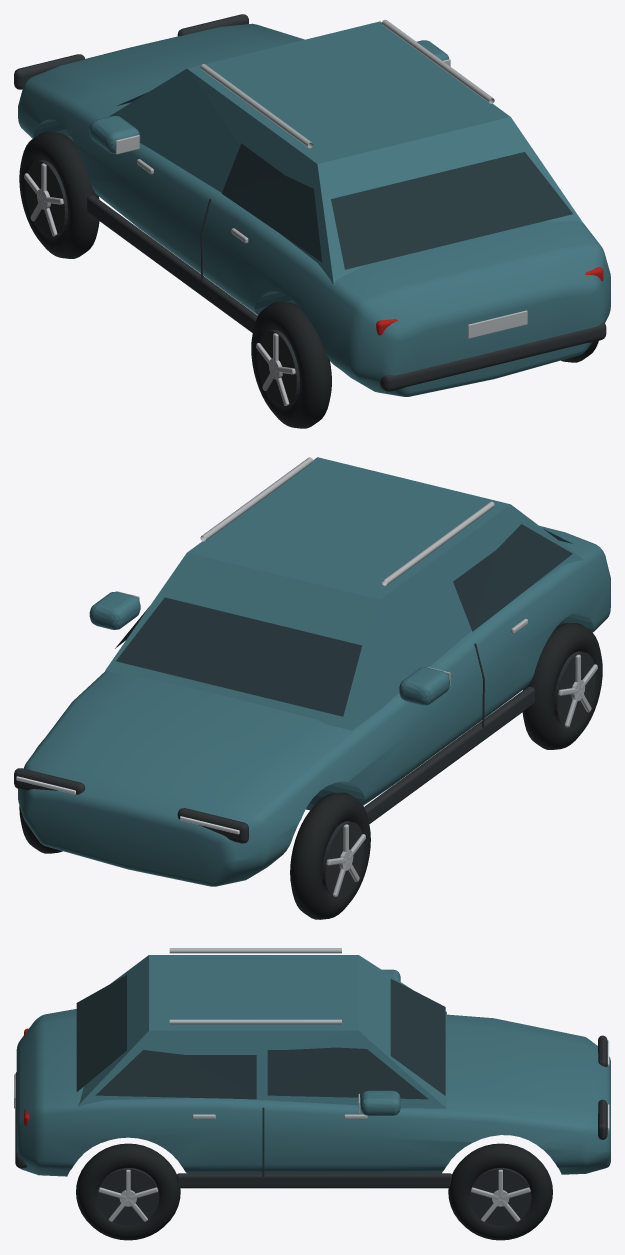
The model's file is touring_car.glb.
The picture shows the model from 3 angles, top to bottom: view 1: azimuth 30°, elevation 25°; view 2: azimuth 150°, elevation 25°; view 3: azimuth 270°, elevation 25°; orthographic projection. The views are drawn at different scales.
Parts seen in each view (by area): view 1: Touring_Body, Wheel_RL, Wheel_FL; view 2: Touring_Body, Wheel_FL, Wheel_RL; view 3: Touring_Body, Wheel_RR, Wheel_FR.
Boxes of the visible parts, <box> form: Touring_Body: <box>14,14,610,396</box>; Wheel_RL: <box>251,301,331,428</box>; Wheel_FL: <box>19,131,99,258</box>; Touring_Body: <box>14,457,610,886</box>; Wheel_FL: <box>290,792,370,919</box>; Wheel_RL: <box>522,623,602,749</box>; Touring_Body: <box>14,948,610,1188</box>; Wheel_RR: <box>76,1143,180,1240</box>; Wheel_FR: <box>448,1143,552,1240</box>.
Size of the model in its own units: 2.3 by 1.62 by 4.33.
